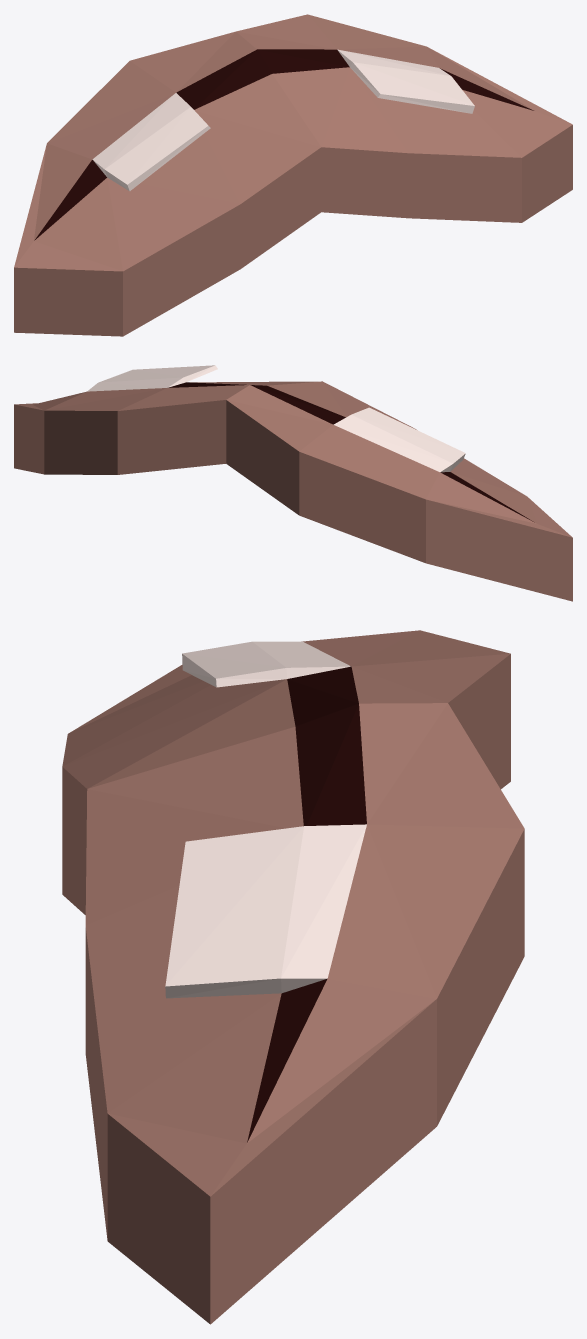
File: Mouth 08.FBX
The picture shows the model from 3 angles, top to bottom: view 1: azimuth 30°, elevation 25°; view 2: azimuth 150°, elevation 25°; view 3: azimuth 270°, elevation 25°; orthographic projection. The views are drawn at different scales.
Parts seen in each view (by area): view 1: Mouth 08; view 2: Mouth 08; view 3: Mouth 08.
Part boxes in pixels (left/top/right/bottom): Mouth 08: left=14, top=14, right=572, bottom=336; Mouth 08: left=14, top=365, right=572, bottom=601; Mouth 08: left=62, top=630, right=524, bottom=1324.
Size of the model in its own units: 7.18 by 2.23 by 2.59.
1 material, 1 textured.
